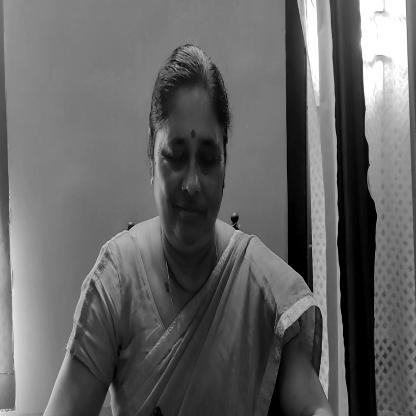Normal: (147, 46, 233, 244)
